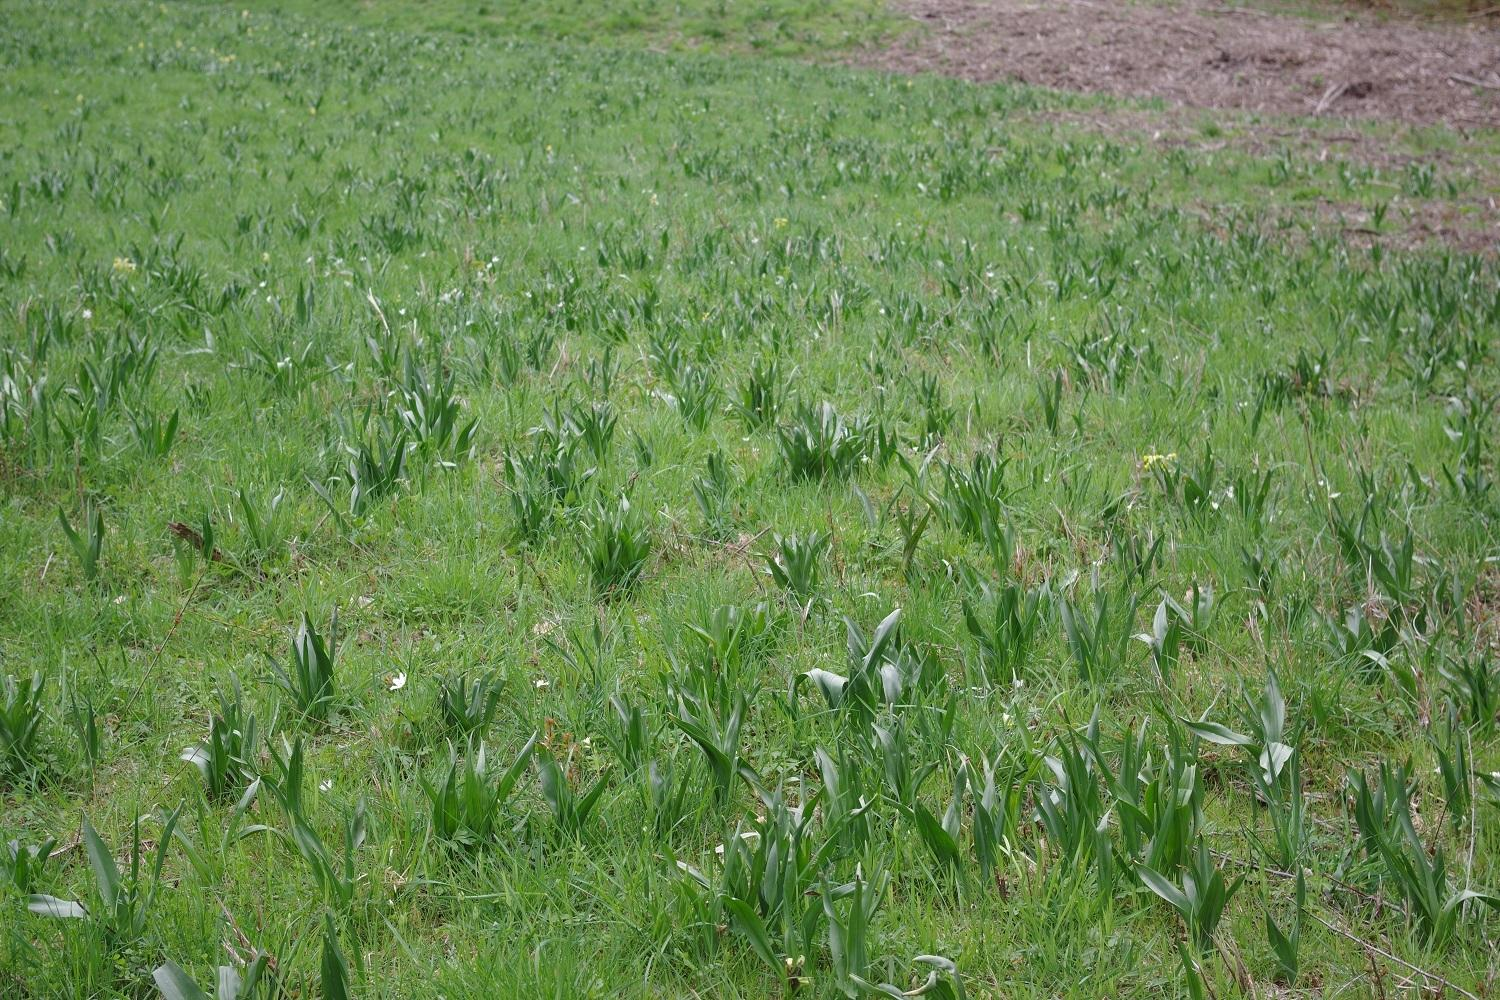Colchicum autumnale L: (1033, 735, 1240, 896), (1338, 750, 1475, 967), (684, 816, 859, 962), (413, 723, 573, 877), (59, 795, 196, 946), (634, 662, 775, 806), (1164, 432, 1292, 554), (1056, 316, 1187, 402), (187, 690, 275, 818), (787, 392, 896, 491), (842, 625, 921, 727), (583, 506, 658, 607), (247, 331, 339, 413), (569, 375, 640, 482), (948, 455, 1025, 552), (327, 414, 412, 500), (114, 373, 186, 470), (286, 619, 344, 723), (664, 350, 725, 437), (749, 354, 791, 442)
